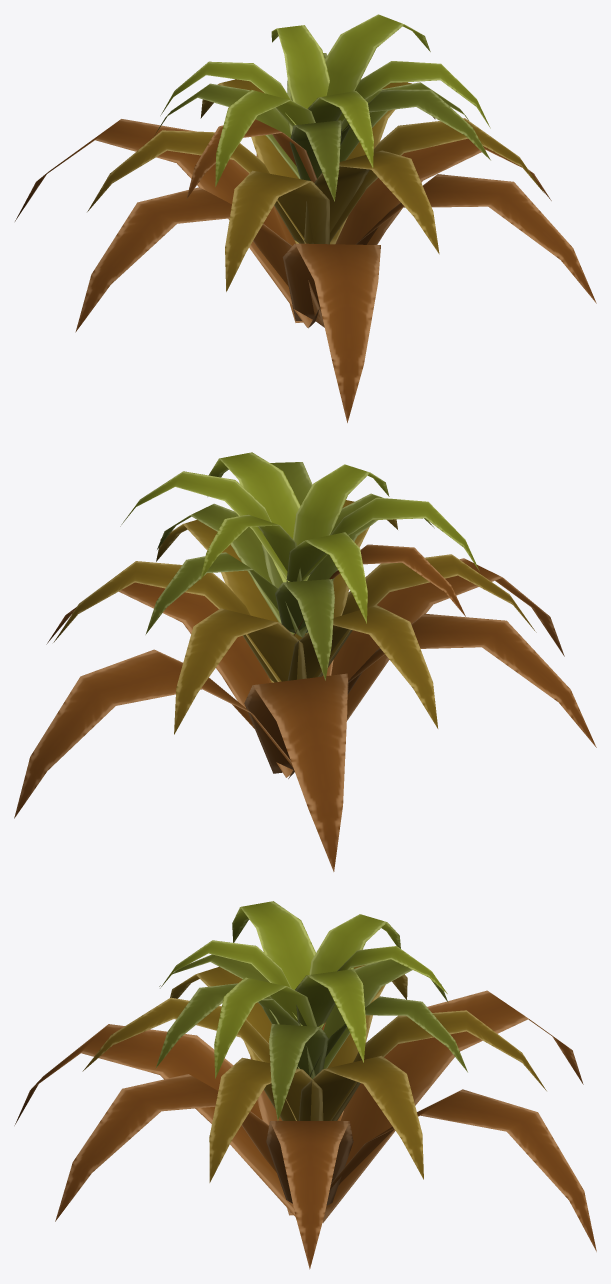
File: Bush04.glb
3 renders of one model, top to bottom at view 1: azimuth 30°, elevation 25°; view 2: azimuth 150°, elevation 25°; view 3: azimuth 270°, elevation 25°, orthographic. The views are drawn at different scales.
Parts seen in each view (by area): view 1: Bush04; view 2: Bush04; view 3: Bush04.
Boxes of the visible parts, bbox=[...] form: Bush04: bbox=[15, 14, 596, 422]; Bush04: bbox=[14, 452, 596, 871]; Bush04: bbox=[14, 901, 596, 1269].
Bounding box in the file's own units: 2.33 × 1.19 × 2.28.
Materials: 1 (1 with a texture image).
